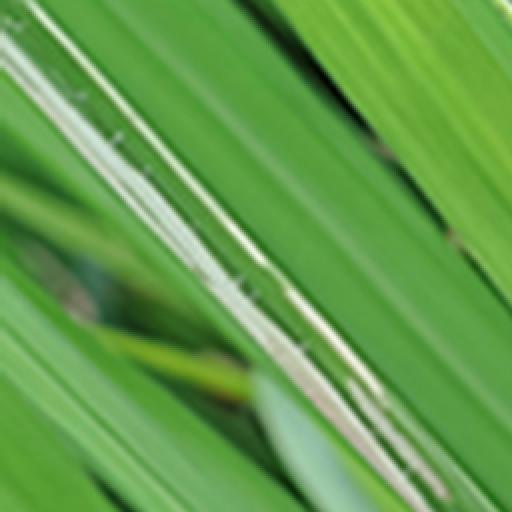Bacterial Leaf Blight: (2, 6, 478, 512)
